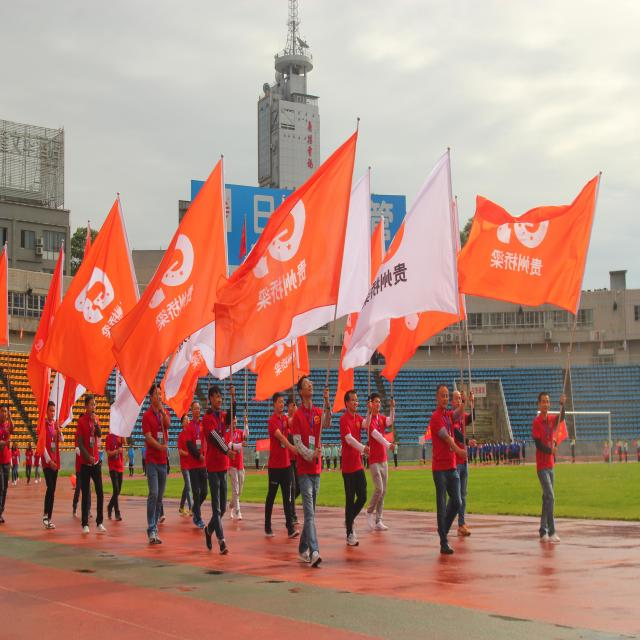non-fight: (291, 364, 333, 572), (426, 380, 471, 560), (196, 379, 237, 564), (526, 386, 568, 550), (262, 393, 301, 541), (139, 382, 171, 552), (73, 394, 109, 532), (365, 393, 395, 532), (38, 399, 64, 528)
